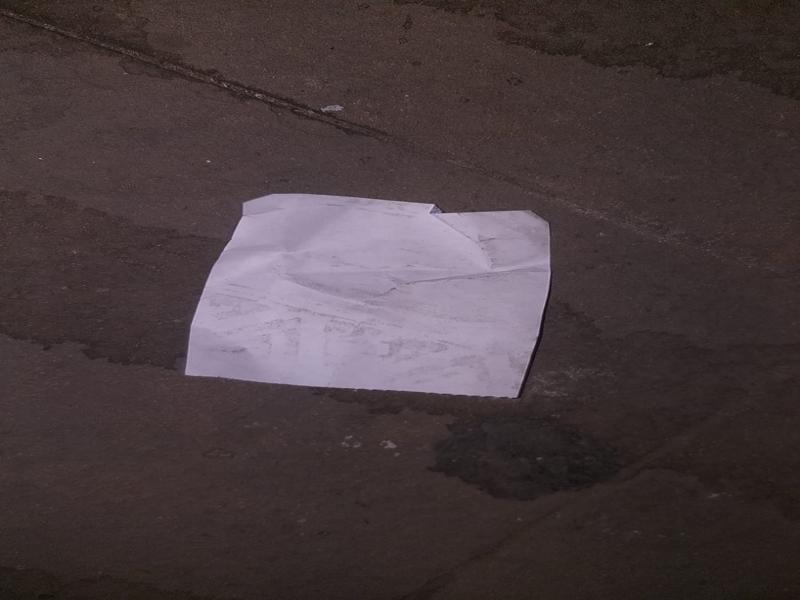papel: (183, 193, 554, 402)
